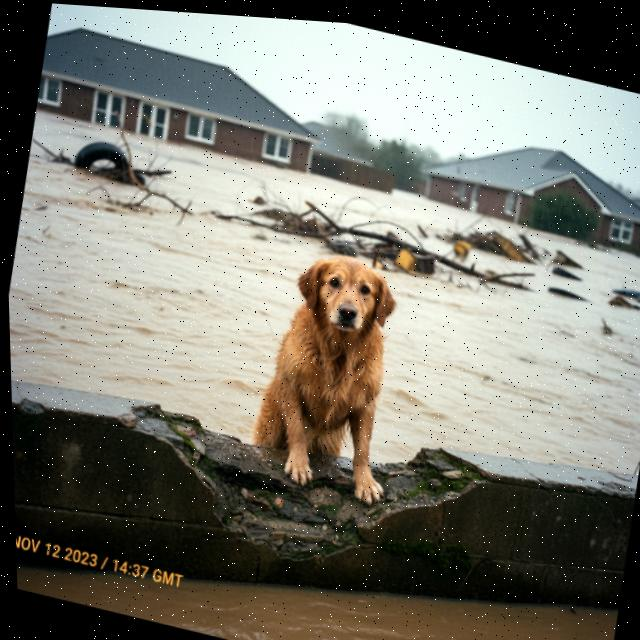dog: (215, 225, 449, 524)
